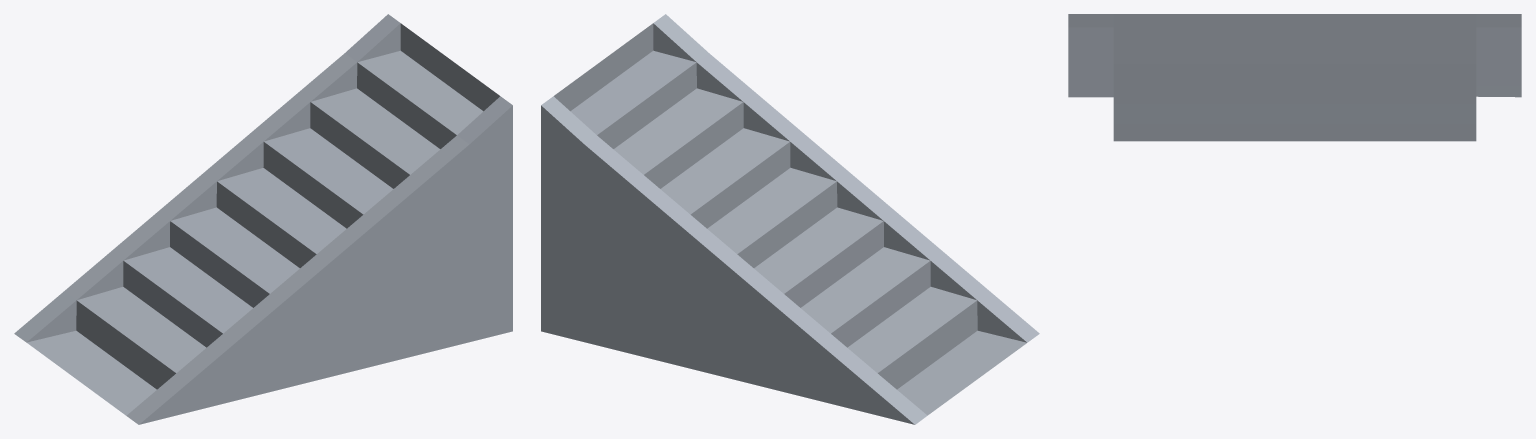
The model's file is stairs1.fbx.
3 views of the same model, side by side, from view 1: azimuth 30°, elevation 25°; view 2: azimuth 150°, elevation 25°; view 3: azimuth 270°, elevation 25° (orthographic). The views are drawn at different scales.
Visible parts, largest first — view 1: Cylinder; view 2: Cylinder; view 3: Cylinder.
Part boxes in pixels (x1=…): Cylinder: x1=14, y1=14, x2=512, y2=424; Cylinder: x1=541, y1=14, x2=1039, y2=424; Cylinder: x1=1068, y1=14, x2=1521, y2=141.
Size of the model in its own units: 1.73 by 1.01 by 1.
